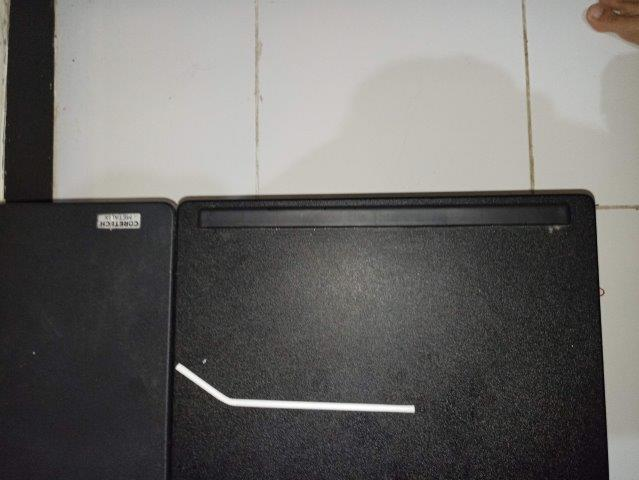sedotan: (174, 362, 415, 412)
